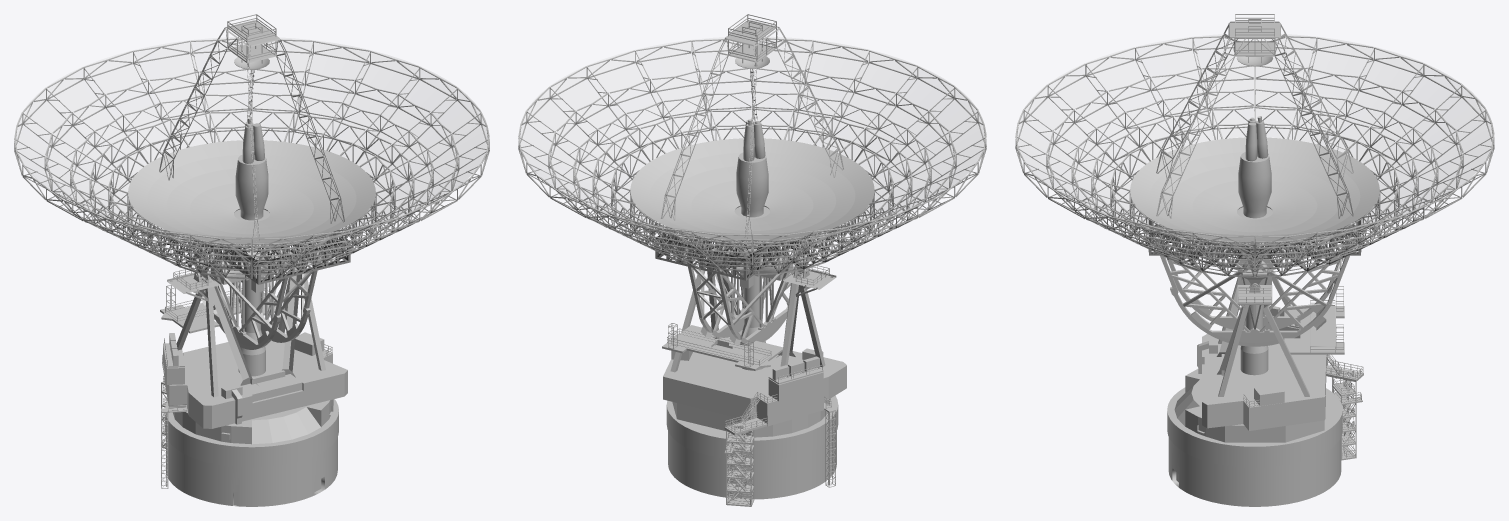
3 views of the same model, side by side, from view 1: azimuth 30°, elevation 25°; view 2: azimuth 150°, elevation 25°; view 3: azimuth 270°, elevation 25° (orthographic). The views are drawn at different scales.
Parts seen in each view (by area): view 1: dish, truss_dish, azimuth, dish.002, base, truss_pendulum, quad, collector, truss_box, rails; view 2: dish, truss_dish, azimuth, dish.002, base, truss_pendulum, quad, rails, collector, landing, truss_box; view 3: dish, truss_dish, dish.002, azimuth, base, truss_pendulum, quad, collector, rails, landing, truss_box.
Boxes of the visible parts, x1=… form: dish: x1=15, y1=37, x2=488, y2=245; truss_dish: x1=14, y1=38, x2=489, y2=279; azimuth: x1=160, y1=243, x2=347, y2=488; dish.002: x1=128, y1=140, x2=375, y2=244; base: x1=165, y1=399, x2=338, y2=506; truss_pendulum: x1=190, y1=244, x2=317, y2=349; quad: x1=159, y1=14, x2=344, y2=242; collector: x1=234, y1=117, x2=269, y2=221; truss_box: x1=208, y1=231, x2=350, y2=284; rails: x1=162, y1=242, x2=333, y2=445; dish: x1=519, y1=37, x2=985, y2=241; truss_dish: x1=518, y1=37, x2=986, y2=275; azimuth: x1=662, y1=239, x2=846, y2=487; dish.002: x1=630, y1=138, x2=874, y2=241; base: x1=666, y1=395, x2=838, y2=499; truss_pendulum: x1=687, y1=241, x2=812, y2=344; quad: x1=661, y1=14, x2=843, y2=239; rails: x1=667, y1=249, x2=831, y2=504; collector: x1=734, y1=119, x2=770, y2=218; landing: x1=724, y1=397, x2=767, y2=506; truss_box: x1=655, y1=228, x2=795, y2=280; dish: x1=1016, y1=34, x2=1493, y2=243; truss_dish: x1=1015, y1=35, x2=1494, y2=277; dish.002: x1=1130, y1=137, x2=1379, y2=242; azimuth: x1=1174, y1=270, x2=1344, y2=442; base: x1=1167, y1=387, x2=1342, y2=506; truss_pendulum: x1=1154, y1=225, x2=1355, y2=346; quad: x1=1156, y1=14, x2=1353, y2=218; collector: x1=1237, y1=116, x2=1272, y2=219; rails: x1=1238, y1=286, x2=1363, y2=458; landing: x1=1326, y1=356, x2=1363, y2=460; truss_box: x1=1148, y1=218, x2=1361, y2=255.
Bounding box in the file's own units: 70.07 × 72.93 × 70.07.
Materials: 5 (2 with a texture image).
